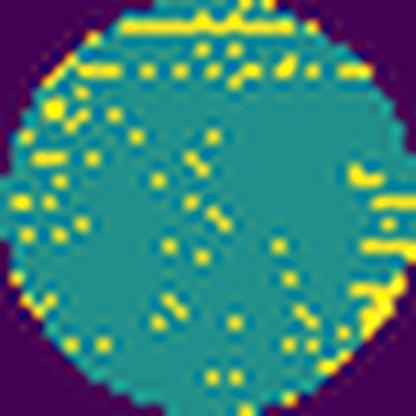Scratch: (113, 8, 305, 47)
